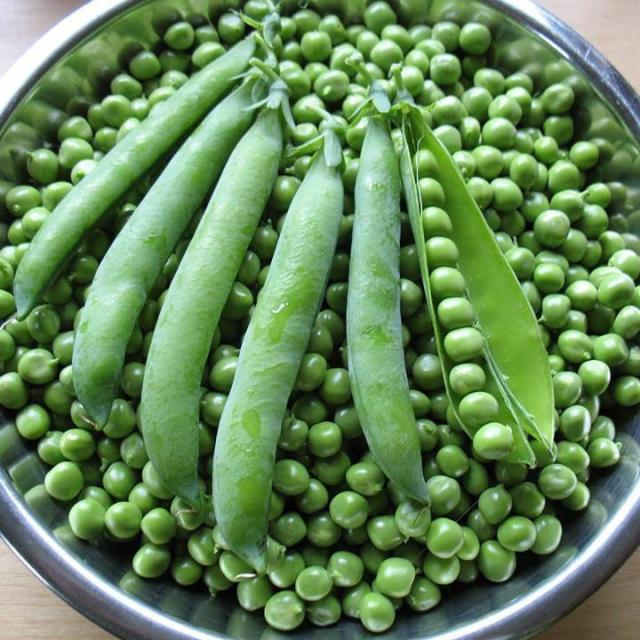Peas: (136, 86, 284, 519), (396, 92, 564, 466), (209, 131, 333, 575), (341, 112, 432, 506)
